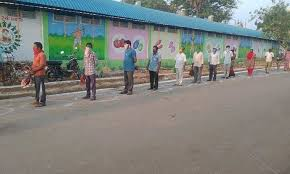Social Distance: (2, 38, 290, 90)
